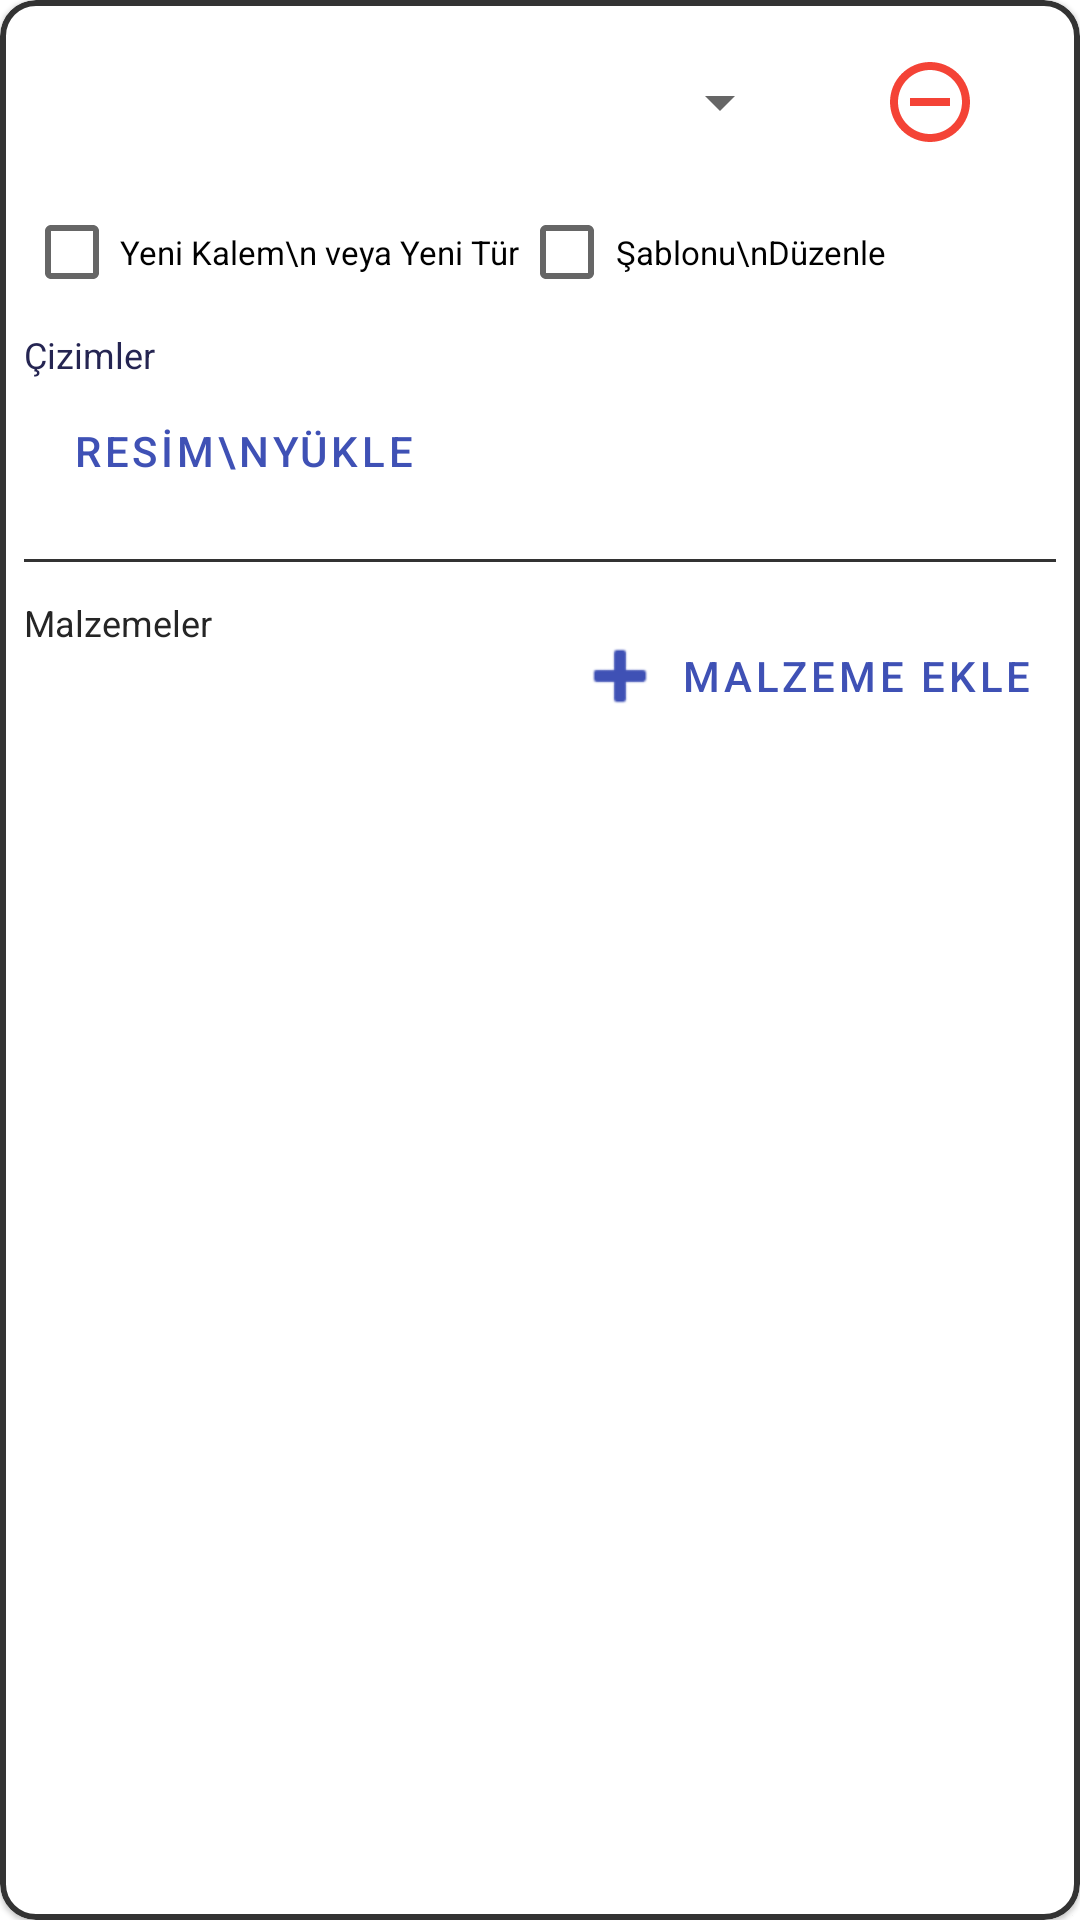

Point at icon controls on the screen. Image size 1080*1920, points as [x,y].
remove circle: [930,102]
